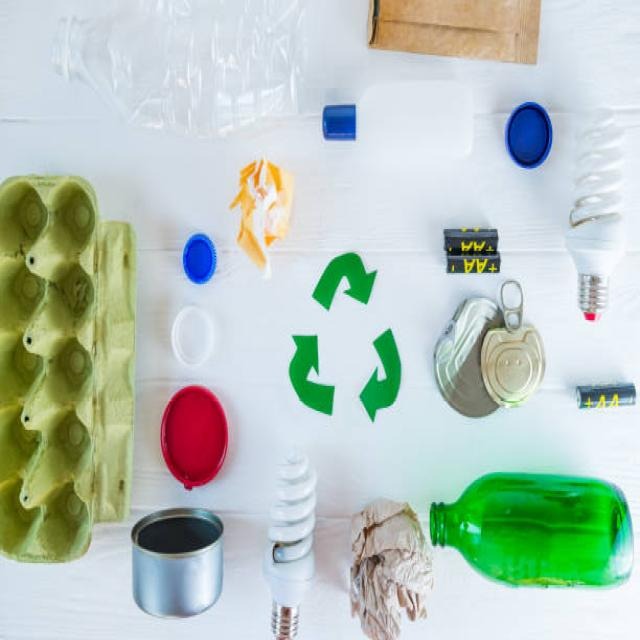cardboard: (1, 172, 115, 572)
glass: (430, 474, 626, 602)
paper: (344, 480, 441, 616)
plastic: (49, 2, 302, 134), (314, 80, 474, 185)
